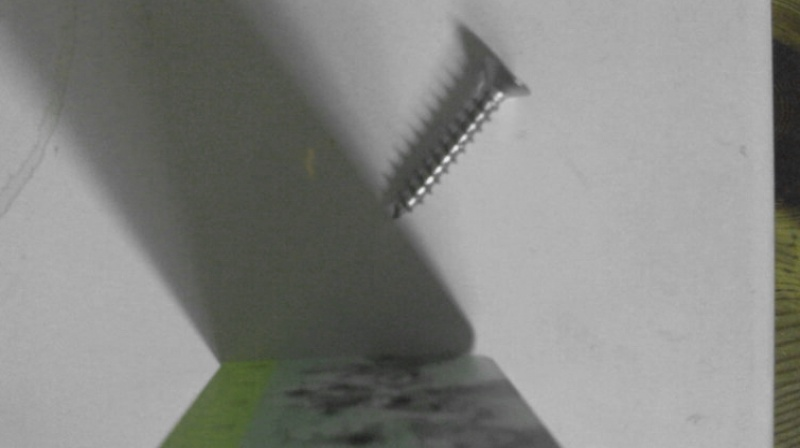S001: (383, 55, 534, 224)
